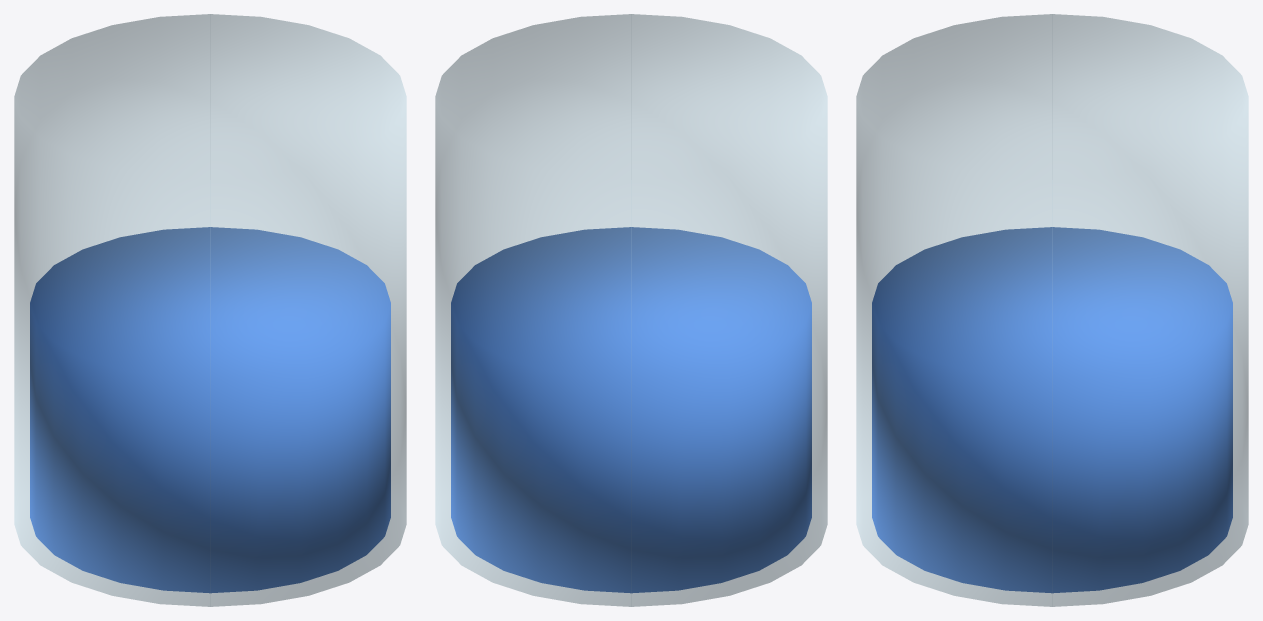
The model's file is beaker.glb.
3 views of the same model, side by side, from view 1: azimuth 30°, elevation 25°; view 2: azimuth 150°, elevation 25°; view 3: azimuth 270°, elevation 25° (orthographic).
Parts seen in each view (by area): view 1: beaker; view 2: beaker; view 3: beaker.
Boxes of the visible parts, bbox=[...] form: beaker: bbox=[14, 14, 406, 606]; beaker: bbox=[435, 14, 827, 606]; beaker: bbox=[856, 14, 1248, 606].
Bounding box in the file's own units: 0.1 × 0.12 × 0.1.
